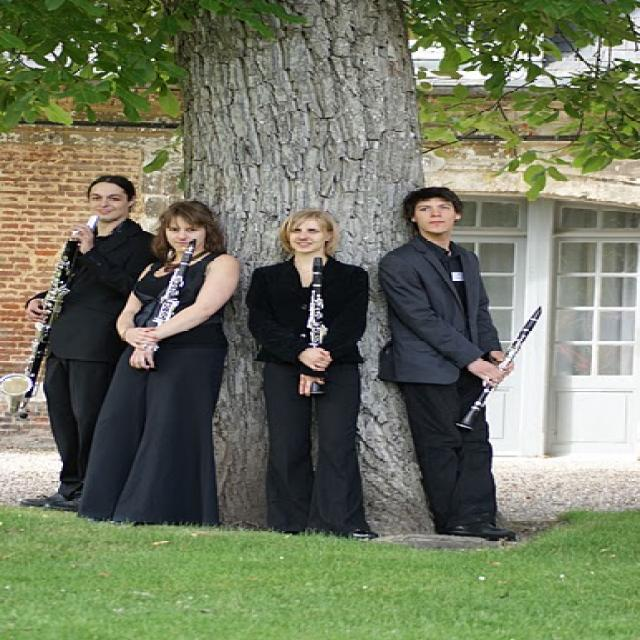clarinet: (2, 214, 101, 419), (448, 302, 548, 435), (296, 257, 341, 395), (147, 238, 192, 327)
